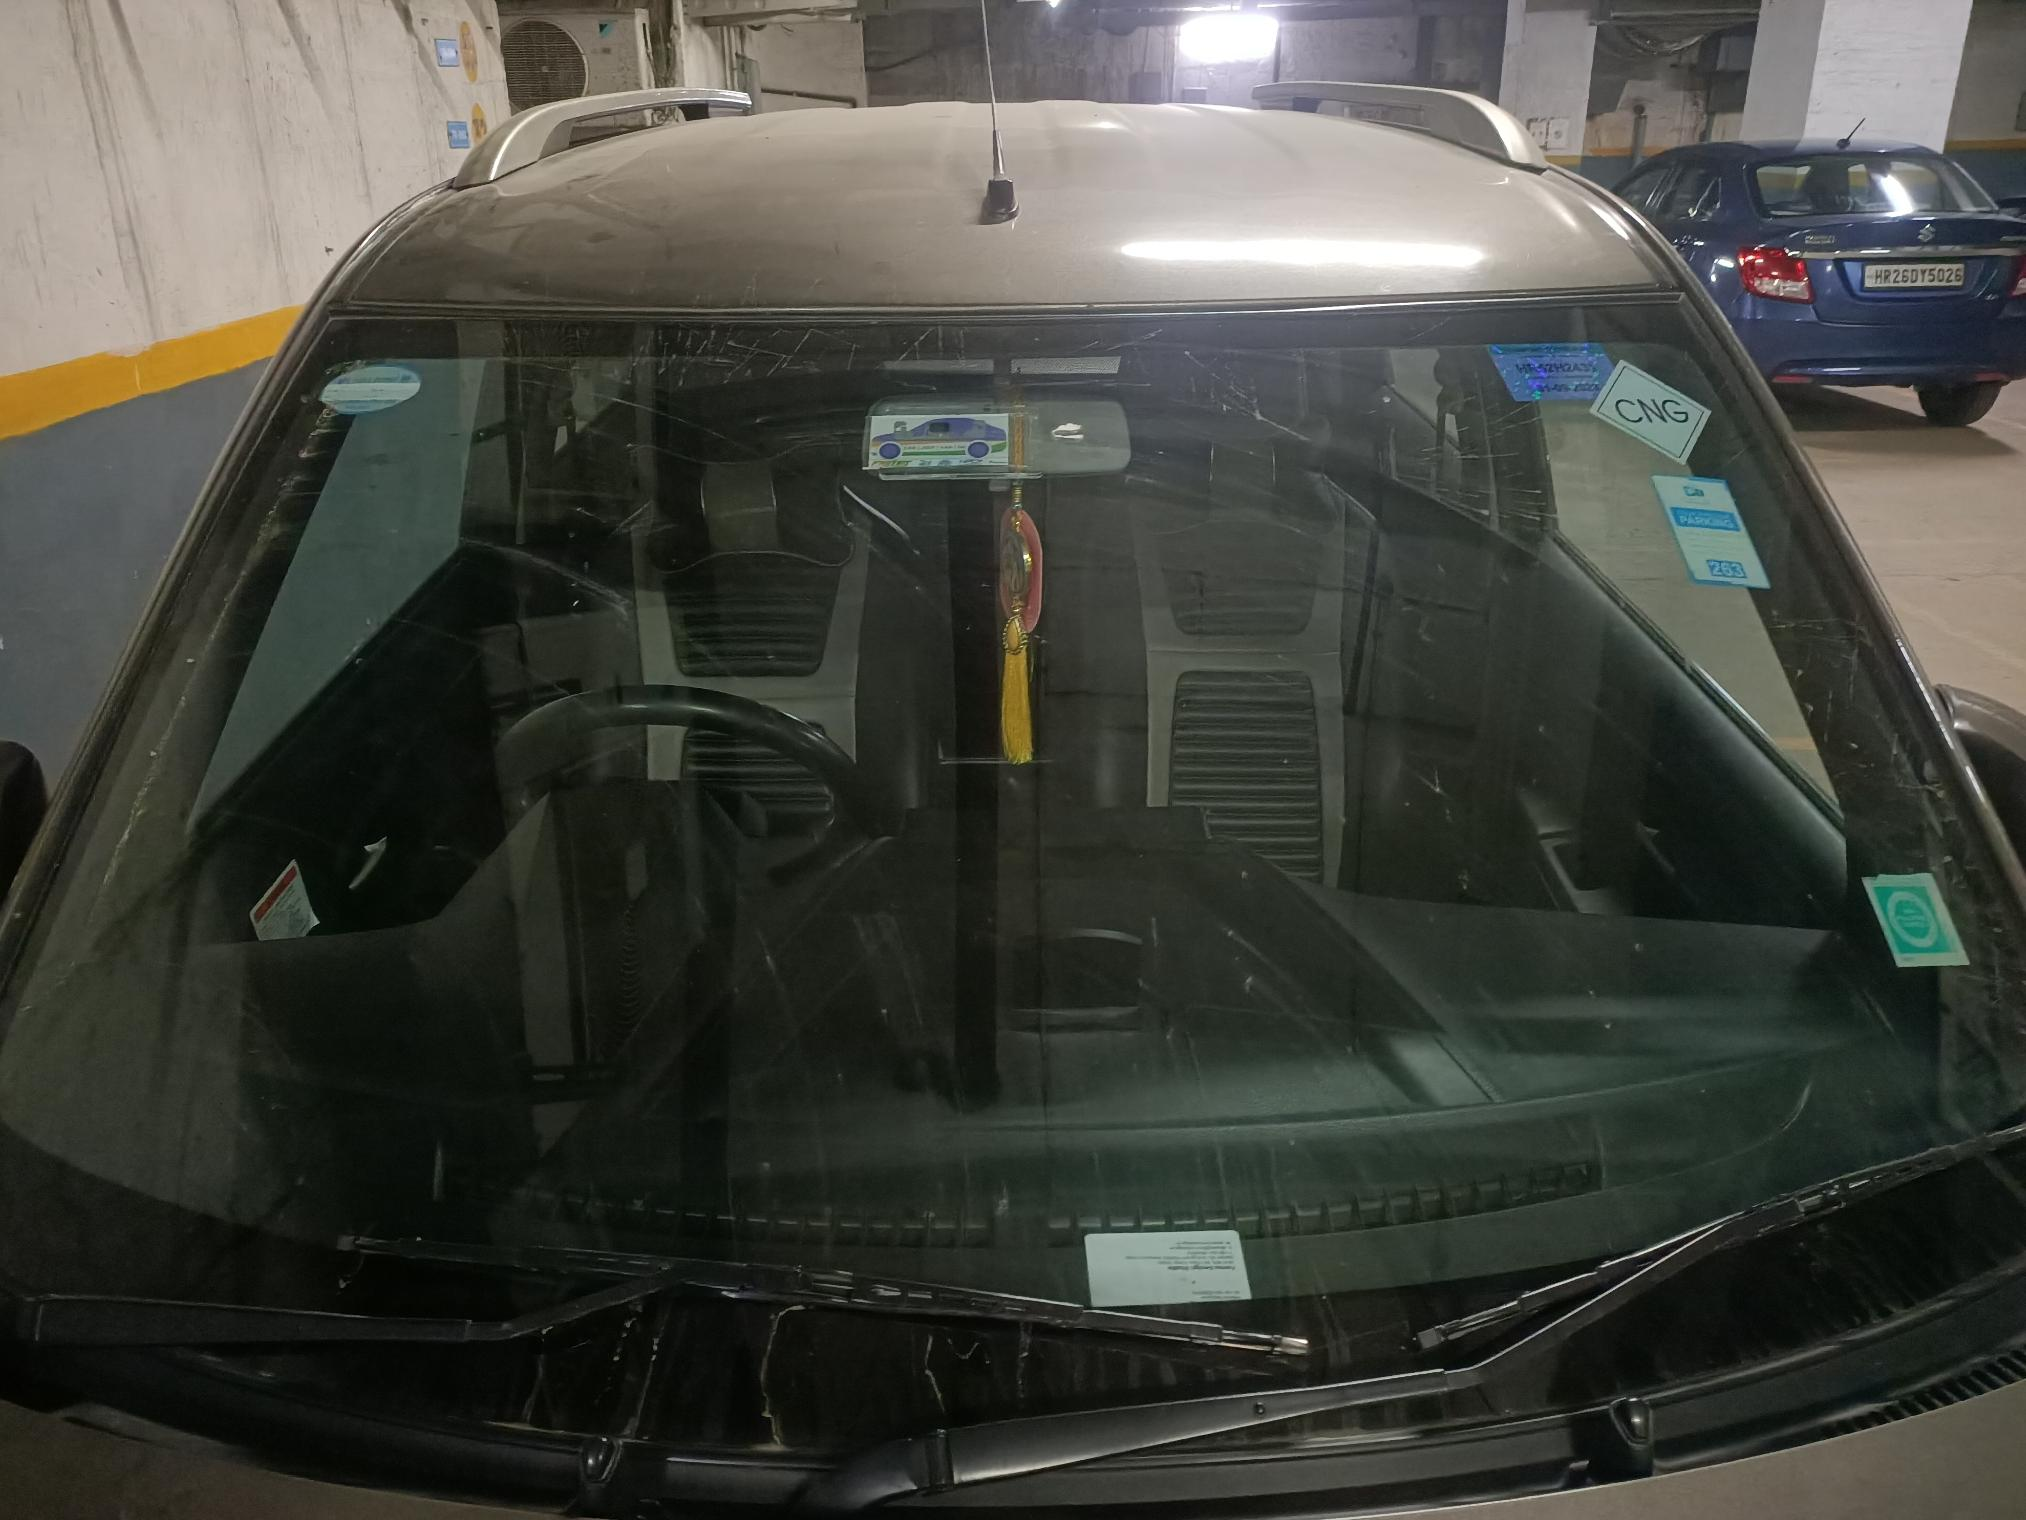FastTag: (867, 406, 1030, 485)
not a FastTag: (1044, 1218, 1274, 1303), (1582, 359, 1735, 476), (1646, 476, 1779, 607), (1862, 857, 1972, 971), (1482, 342, 1612, 402), (318, 356, 428, 417)
